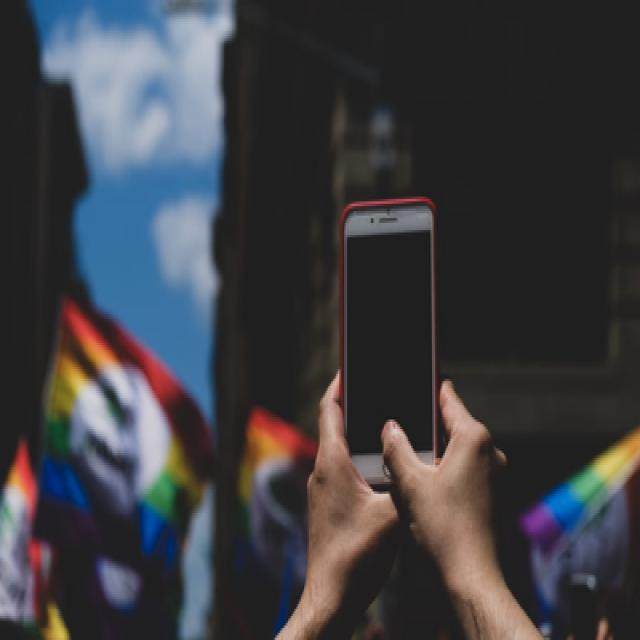cellphone: (338, 194, 437, 492)
